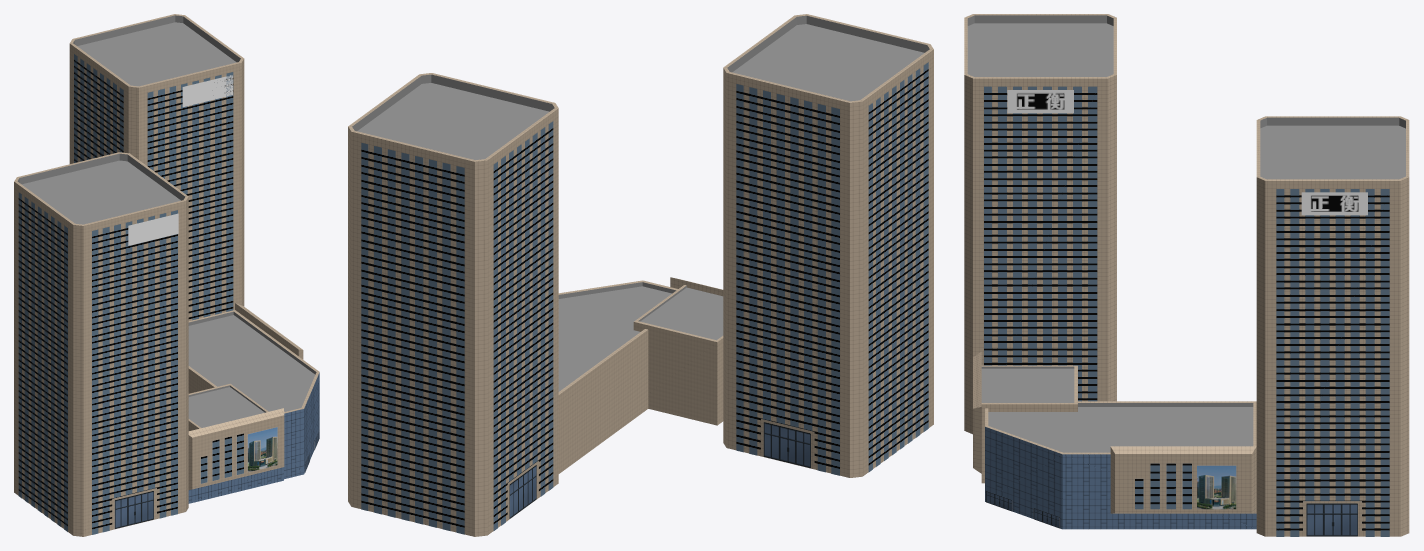
File: ZhengHengJinRongGuangChang_building.FBX
The picture shows the model from 3 angles, left to right: view 1: azimuth 30°, elevation 25°; view 2: azimuth 150°, elevation 25°; view 3: azimuth 270°, elevation 25°; orthographic projection. The views are drawn at different scales.
Parts seen in each view (by area): view 1: Object009, Box001, Object007, Box004, Object014, Object006, Object, Box007, Object016, Object012, Object010, Object018 (+3 smaller); view 2: Object009, Object007, Box004, Box001, Object, Object006, Box002, Object008, Object014, Object010; view 3: Object007, Box004, Object009, Box001, Object012, Object014, Object006, Object, Box008, Object017, Object010, Object018 (+4 smaller).
Boxes of the visible parts, <box> form: Object009: <box>18,192,177,534</box>; Box001: <box>14,152,188,536</box>; Object007: <box>74,54,233,320</box>; Box004: <box>69,14,244,320</box>; Object014: <box>188,311,316,411</box>; Object006: <box>73,15,240,86</box>; Object: <box>17,153,185,224</box>; Box007: <box>188,408,284,489</box>; Object016: <box>200,427,277,483</box>; Object012: <box>284,372,319,479</box>; Object010: <box>188,385,266,427</box>; Object018: <box>128,75,232,245</box>; Object009: <box>736,62,928,475</box>; Object007: <box>361,121,553,534</box>; Box004: <box>348,73,558,536</box>; Box001: <box>723,14,933,477</box>; Object: <box>727,15,929,101</box>; Object006: <box>352,74,554,159</box>; Box002: <box>558,280,677,473</box>; Object008: <box>633,285,723,425</box>; Object014: <box>558,282,676,391</box>; Object010: <box>638,285,723,340</box>; Object007: <box>1276,189,1389,536</box>; Box004: <box>1256,116,1409,536</box>; Object009: <box>984,86,1097,401</box>; Box001: <box>964,14,1116,434</box>; Object012: <box>985,427,1256,529</box>; Object014: <box>988,403,1253,452</box>; Object006: <box>1260,117,1405,179</box>; Object: <box>967,15,1113,76</box>; Box008: <box>1110,446,1256,513</box>; Object017: <box>1135,463,1236,509</box>; Object010: <box>981,366,1074,402</box>; Object018: <box>1007,90,1367,215</box>.
Size of the model in its own units: 9070 by 9000 by 10260.
Materials: 5 (4 with a texture image).
